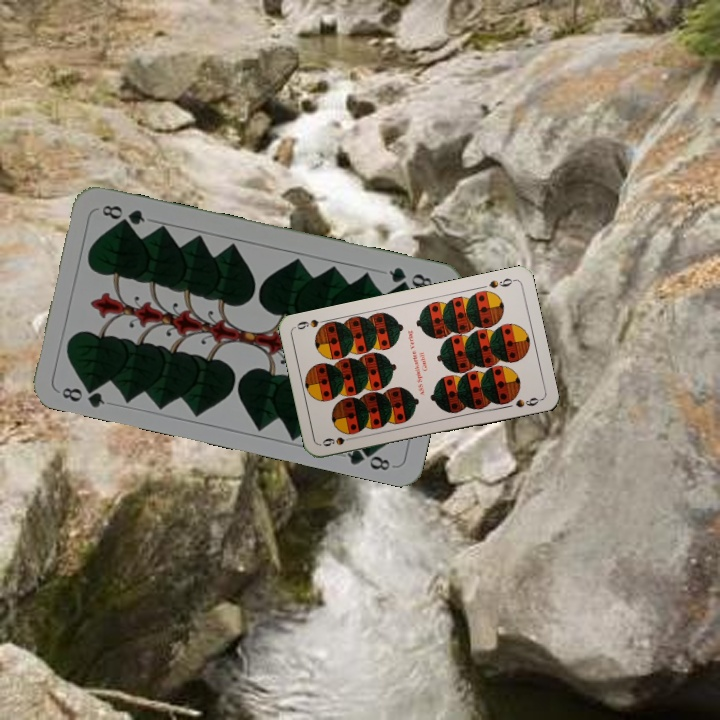G8: (57, 379, 108, 410), (385, 263, 438, 291)
S9: (318, 433, 359, 449), (485, 274, 518, 291)
